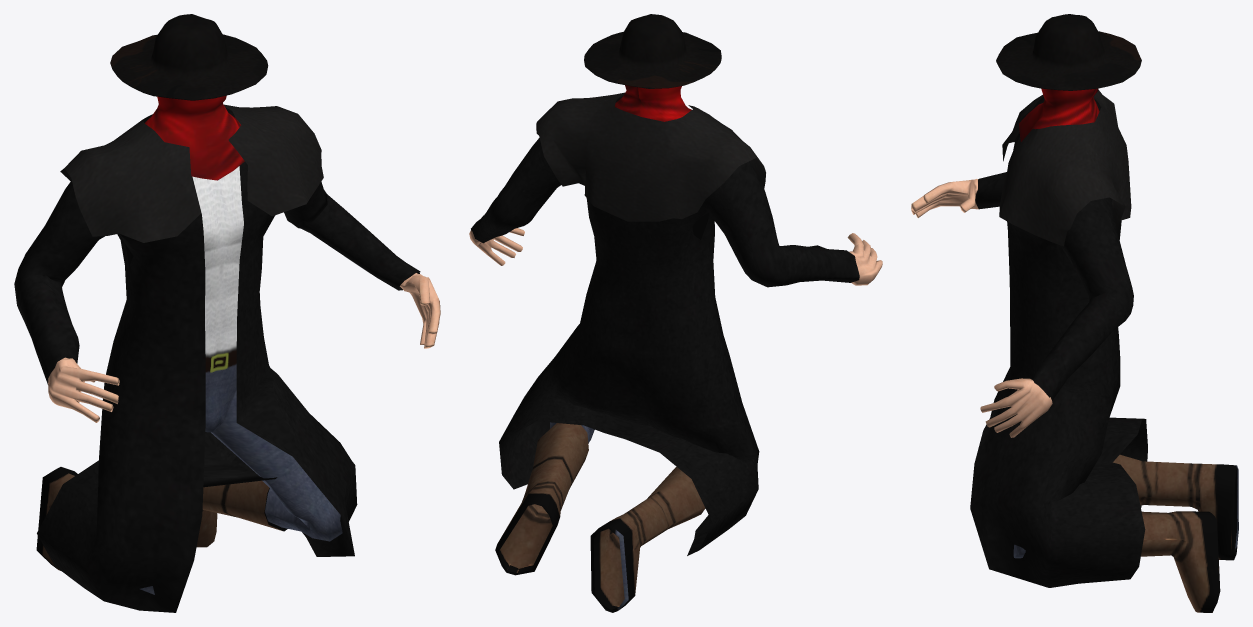
3 renders of one model, left to right at view 1: azimuth 30°, elevation 25°; view 2: azimuth 150°, elevation 25°; view 3: azimuth 270°, elevation 25°, orthographic. The views are drawn at different scales.
Visible parts, largest first — view 1: Undertaker_Death:Undertaker_4:Undertaker_4:Undertaker; view 2: Undertaker_Death:Undertaker_4:Undertaker_4:Undertaker; view 3: Undertaker_Death:Undertaker_4:Undertaker_4:Undertaker.
Boxes of the visible parts, x1,y1,x2,y2 form: Undertaker_Death:Undertaker_4:Undertaker_4:Undertaker: (14,14,440,612); Undertaker_Death:Undertaker_4:Undertaker_4:Undertaker: (469,14,882,612); Undertaker_Death:Undertaker_4:Undertaker_4:Undertaker: (911,14,1238,612).
Bounding box in the file's own units: 1.76 × 2.4 × 1.28.
Materials: 1 (1 with a texture image).
